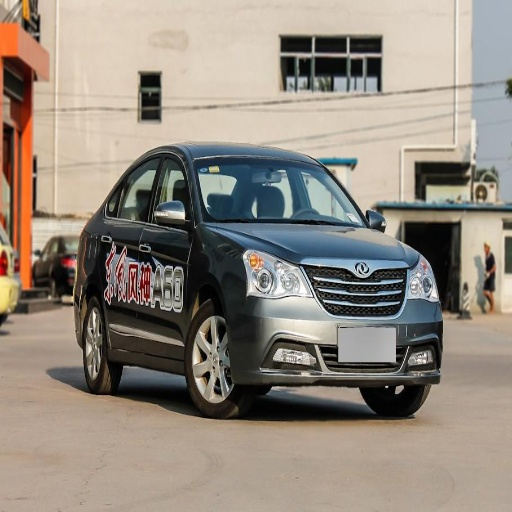front_bumper: (227, 263, 440, 393)
front_right_door: (136, 152, 194, 351)
front_right_light: (242, 245, 311, 297)
hood: (226, 223, 418, 265)
